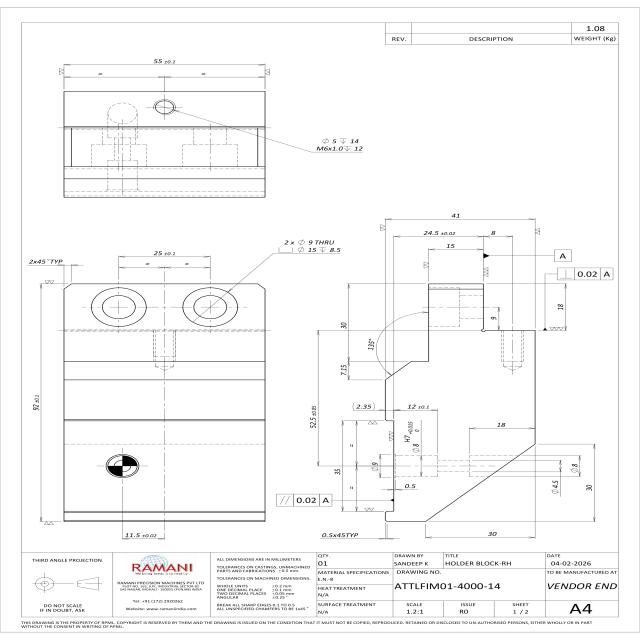dimension: (281, 238, 342, 254), (315, 137, 365, 152), (403, 419, 421, 454), (321, 531, 360, 539), (306, 404, 318, 430), (27, 257, 64, 265), (122, 531, 157, 539), (422, 229, 456, 236), (350, 402, 376, 411), (152, 56, 178, 64), (152, 249, 177, 257), (406, 402, 430, 410), (32, 394, 41, 412), (550, 480, 560, 496), (338, 363, 349, 376), (366, 338, 376, 352), (369, 460, 380, 472), (485, 530, 499, 538), (403, 482, 417, 490), (330, 467, 342, 476), (339, 320, 349, 330), (449, 212, 462, 219), (583, 483, 593, 492), (569, 463, 578, 473), (495, 421, 507, 428), (444, 242, 456, 249), (556, 303, 565, 312), (488, 314, 499, 321), (489, 229, 497, 236)
